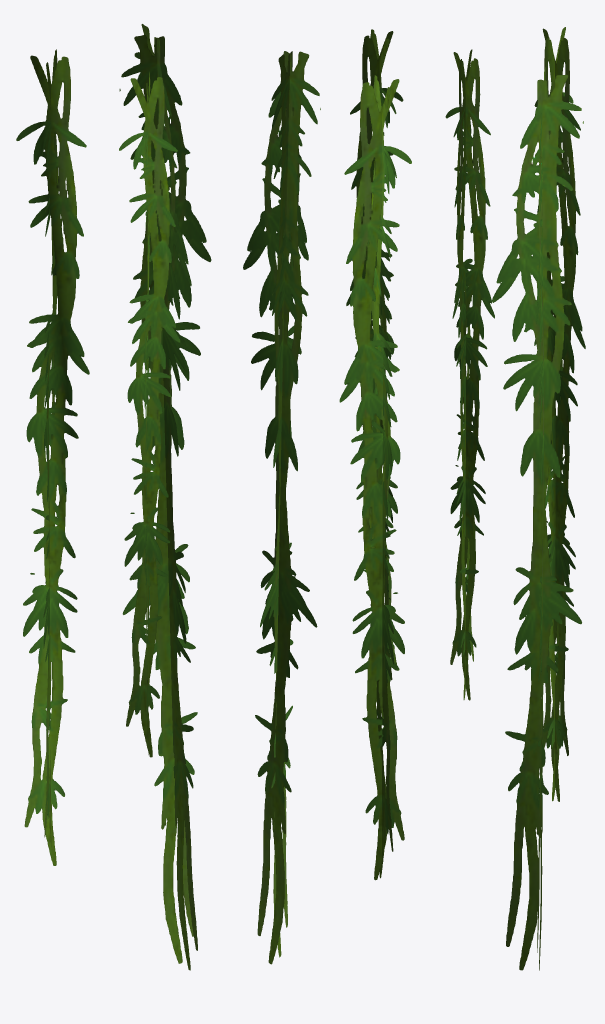
The model's file is Vine_A.fbx.
The picture shows the model from 3 angles, left to right: view 1: azimuth 30°, elevation 25°; view 2: azimuth 150°, elevation 25°; view 3: azimuth 270°, elevation 25°; orthographic projection. The views are drawn at different scales.
Parts seen in each view (by area): view 1: Vine_A_LOD0; view 2: Vine_A_LOD0; view 3: Vine_A_LOD0.
Boxes of the visible parts, left/top/right/bottom form: Vine_A_LOD0: left=16, top=24, right=211, bottom=970; Vine_A_LOD0: left=243, top=29, right=411, bottom=964; Vine_A_LOD0: left=445, top=27, right=585, bottom=970.
Size of what is drawn, in the model's own units: 0.6756 by 3.5 by 0.5106.
Materials: 1 (1 with a texture image).
